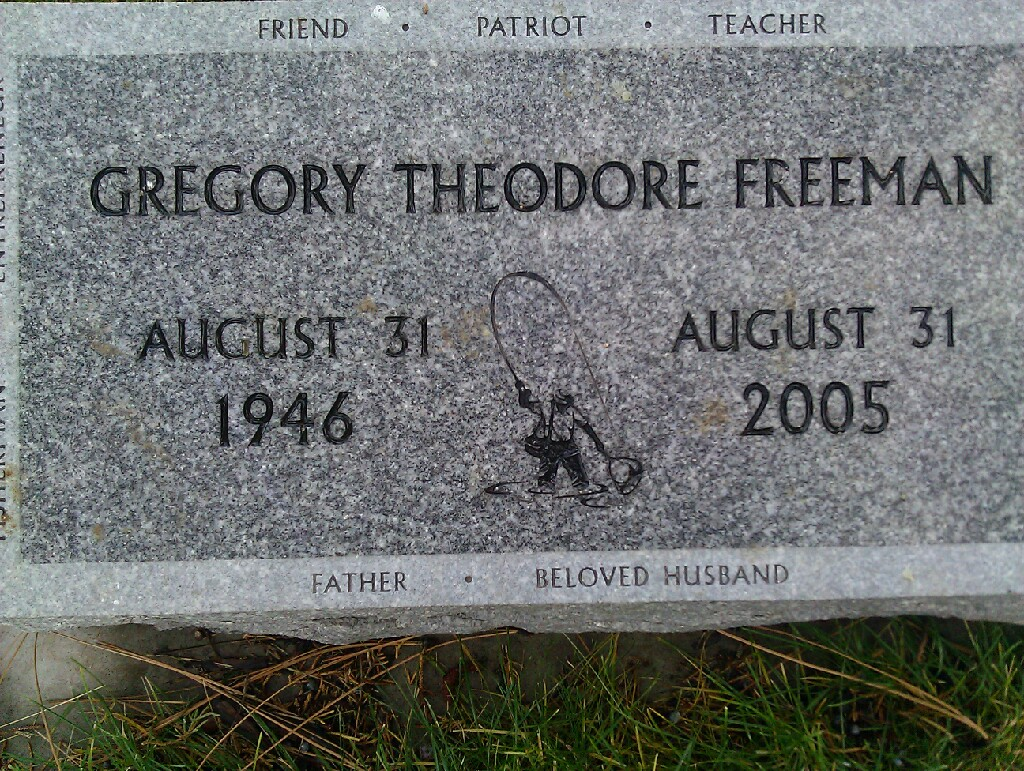flat: (2, 3, 1024, 614)
